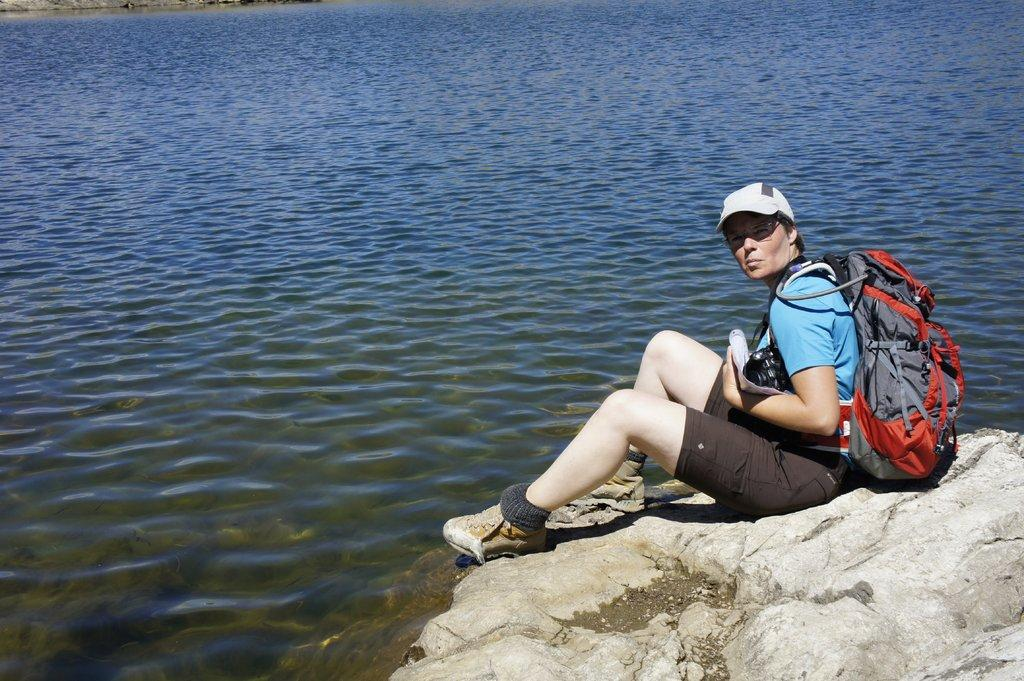Luggage-and-bags: (768, 253, 970, 482)
